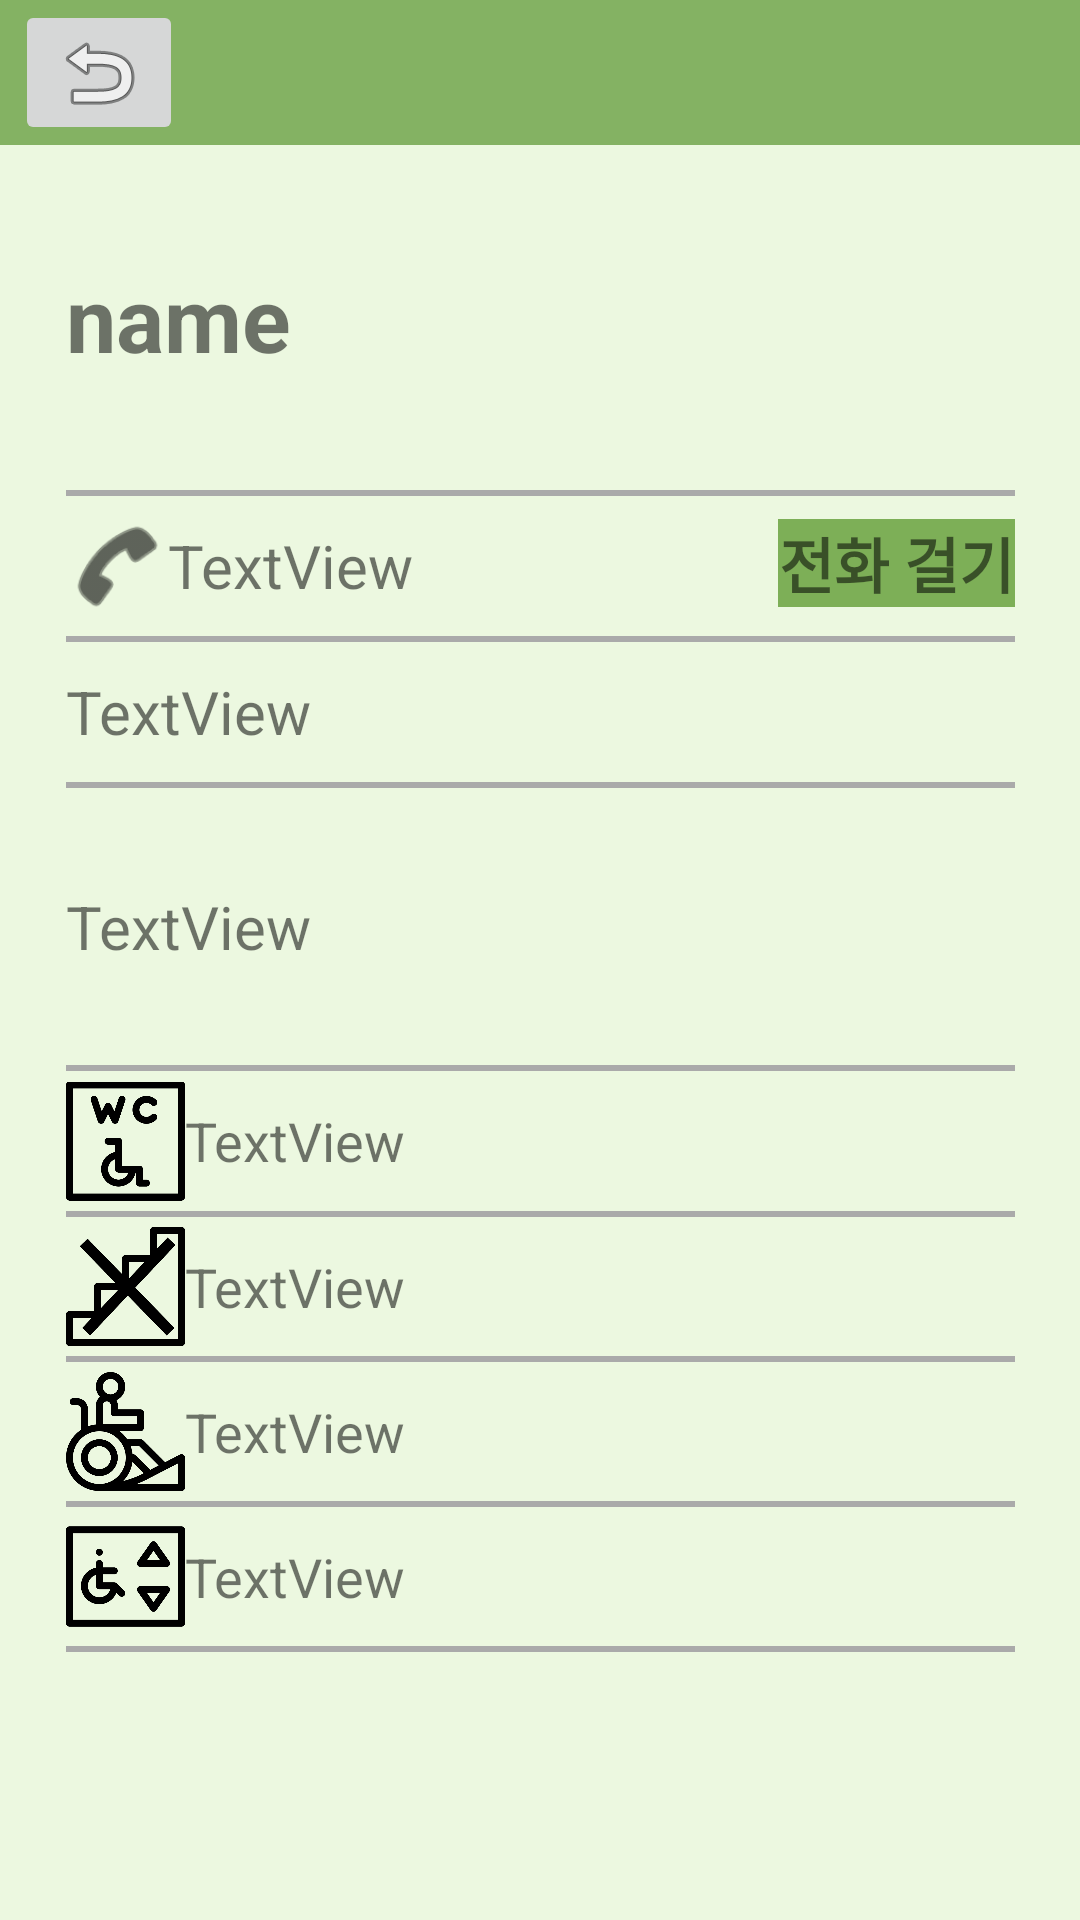

Screen size 1080w x 1920h. Icon name, then its center in pixels as (x,y):
call: (117,566)
elevator: (125,1576)
ramp: (125,1431)
revert: (99,72)
stairs: (125,1286)
